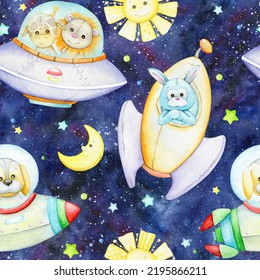animal: (146, 65, 206, 130), (58, 13, 101, 56), (26, 11, 58, 57)
dog: (1, 154, 30, 197)
moon: (59, 123, 103, 171)
star: (62, 240, 78, 257), (223, 106, 238, 124), (142, 192, 155, 207), (57, 118, 69, 131), (213, 5, 224, 15), (181, 237, 191, 247), (13, 124, 22, 135), (110, 200, 118, 212), (211, 185, 220, 194)
sun: (106, 1, 173, 38)
